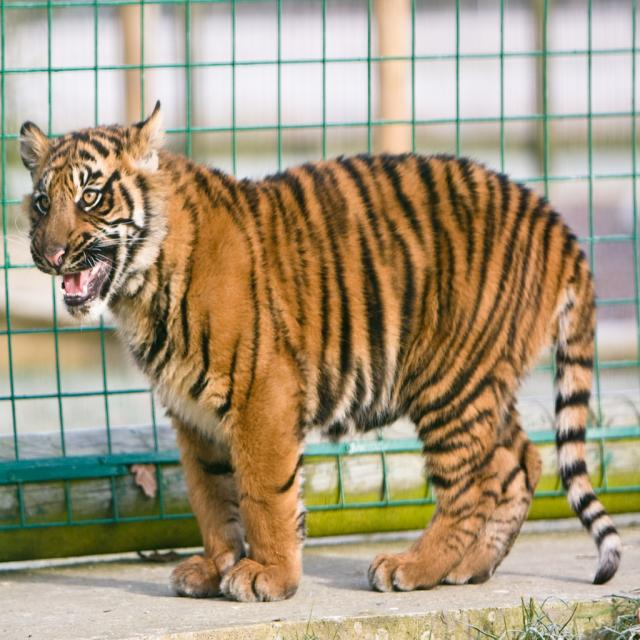Tiger: (3, 100, 621, 604)
